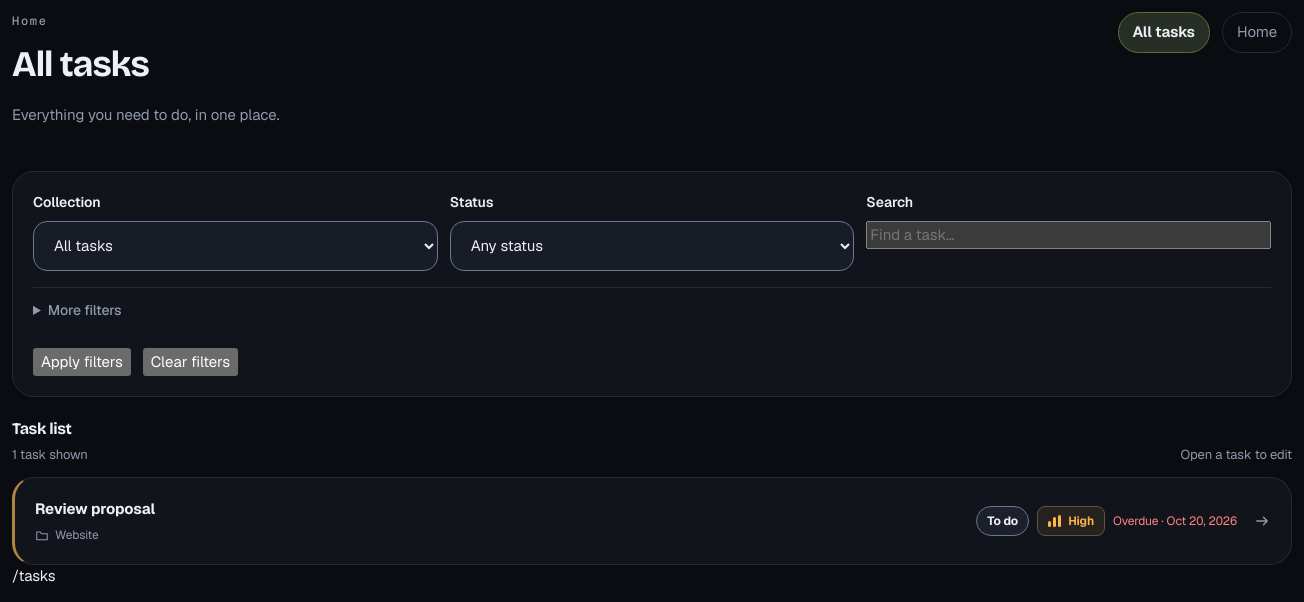
Test case: AllTasksPage › keeps applied filters in the URL and sends them to the global query
Expected: the link "Review proposal Website To do High Overdue · Oct 20, 2026" is shown, [12,476,1292,565]
Select "Done" in the dropdown labelled "Status": [652, 246] box [450,220,854,270]
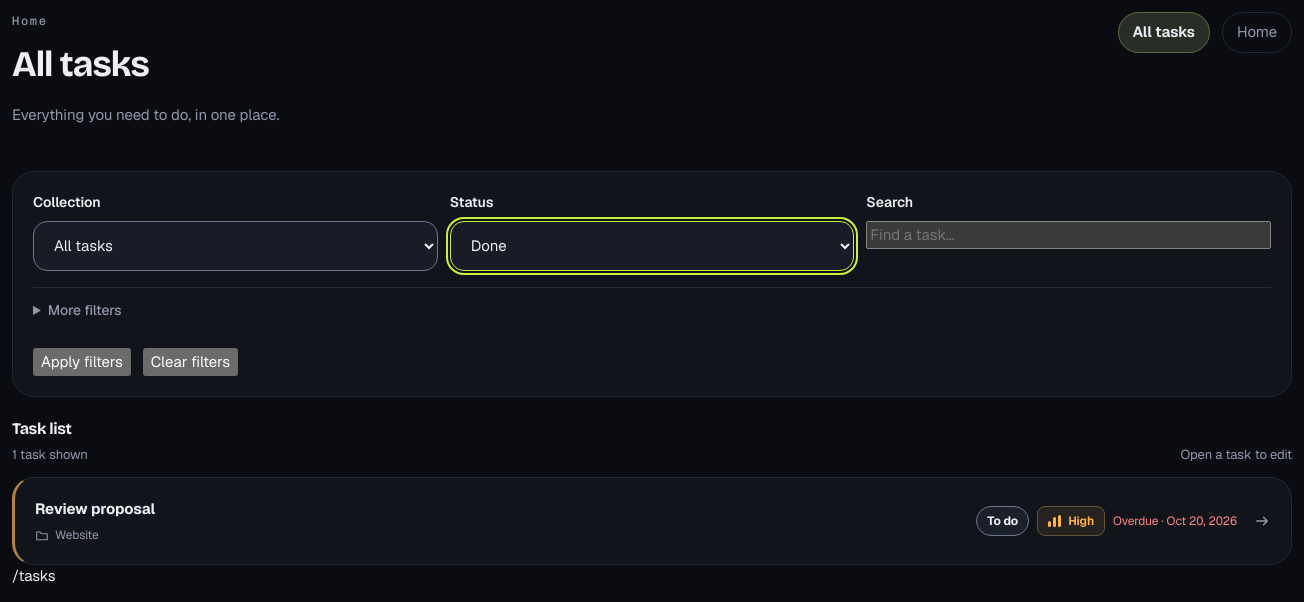
In the search field labelled "Search": [1069, 235] box [866,220,1271,249], type "proposal"
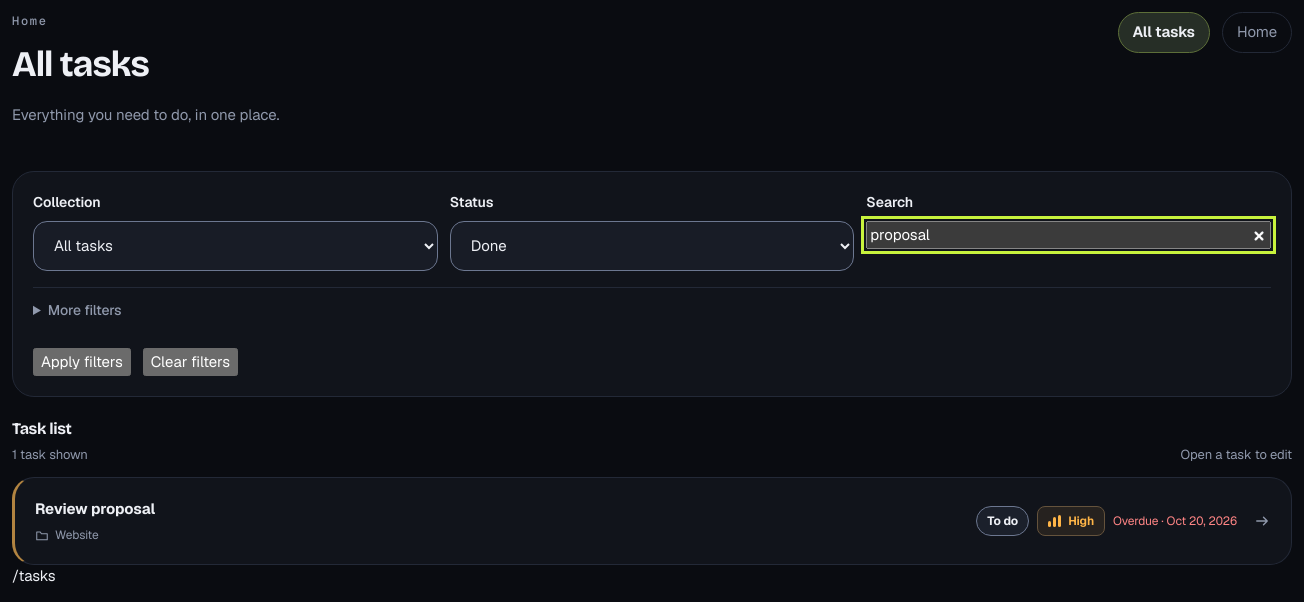
Click the button "Apply filters": [82, 362] box [33,348,131,376]
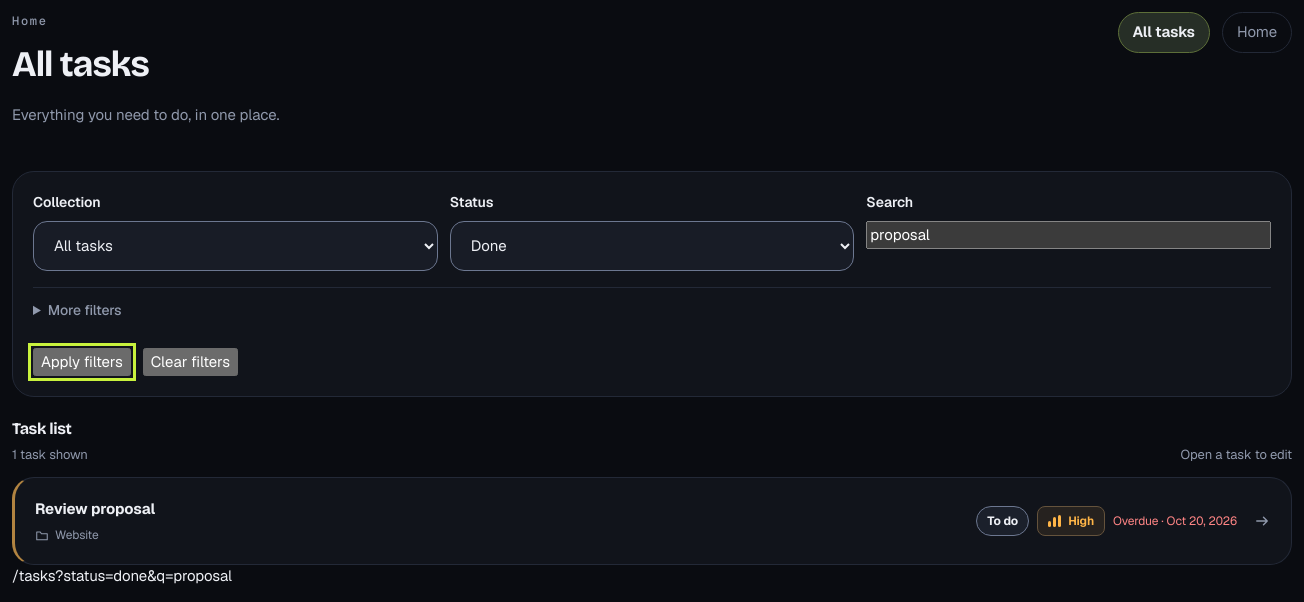
Expected: the text with test id "location" reads "/tasks?status=done&q=proposal", [12,566,232,585]
